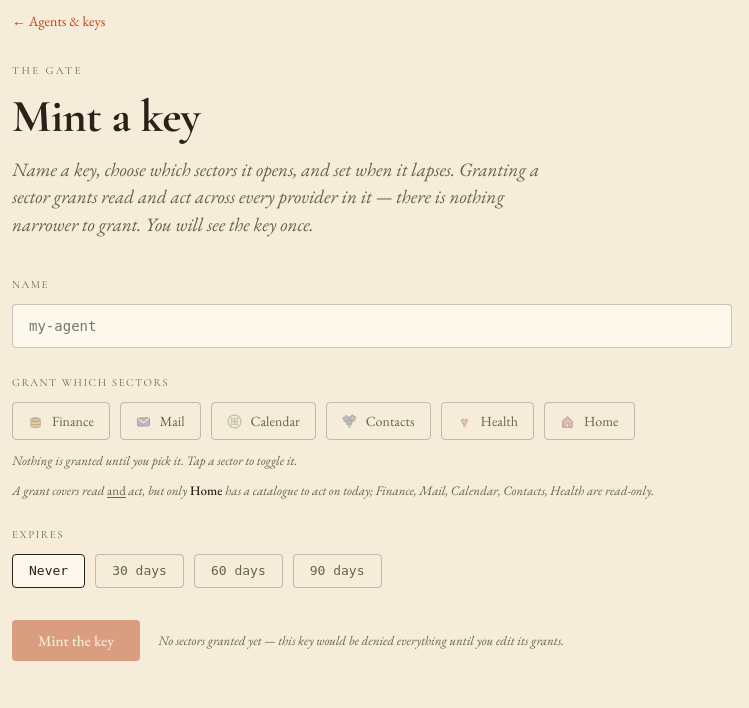
Test: the expiry default follows whether this gate is published (ADR 0035 §D3 item 6) › a gateway that did not answer is not reported as a gateway with no MCP edge
In the field labelled "Name": (372, 326) x1=12 y1=304 x2=732 y2=348, type "bot"
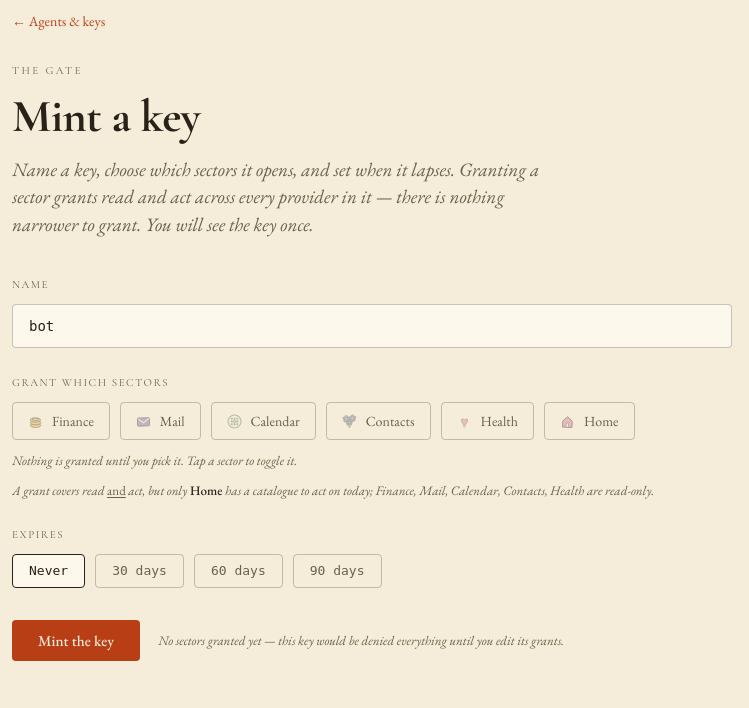
Click the button "Mint the key": (76, 641) x1=12 y1=620 x2=140 y2=661
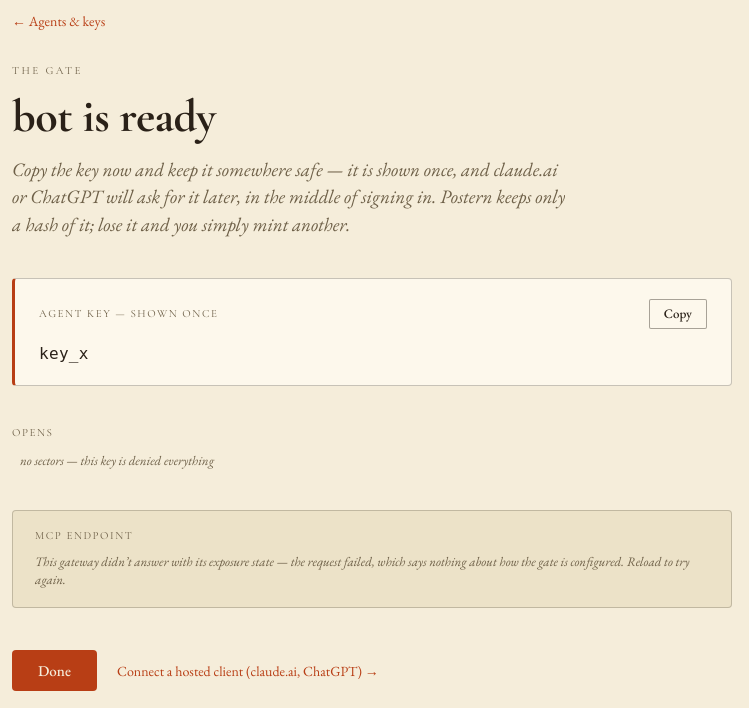
Now the text "key_x" is shown, box x1=39 y1=344 x2=89 y2=363
Now the text "This gateway didn’t answer with its exposure state — the request failed, which says nothing about how the gate is config" is shown, box x1=35 y1=553 x2=689 y2=588
